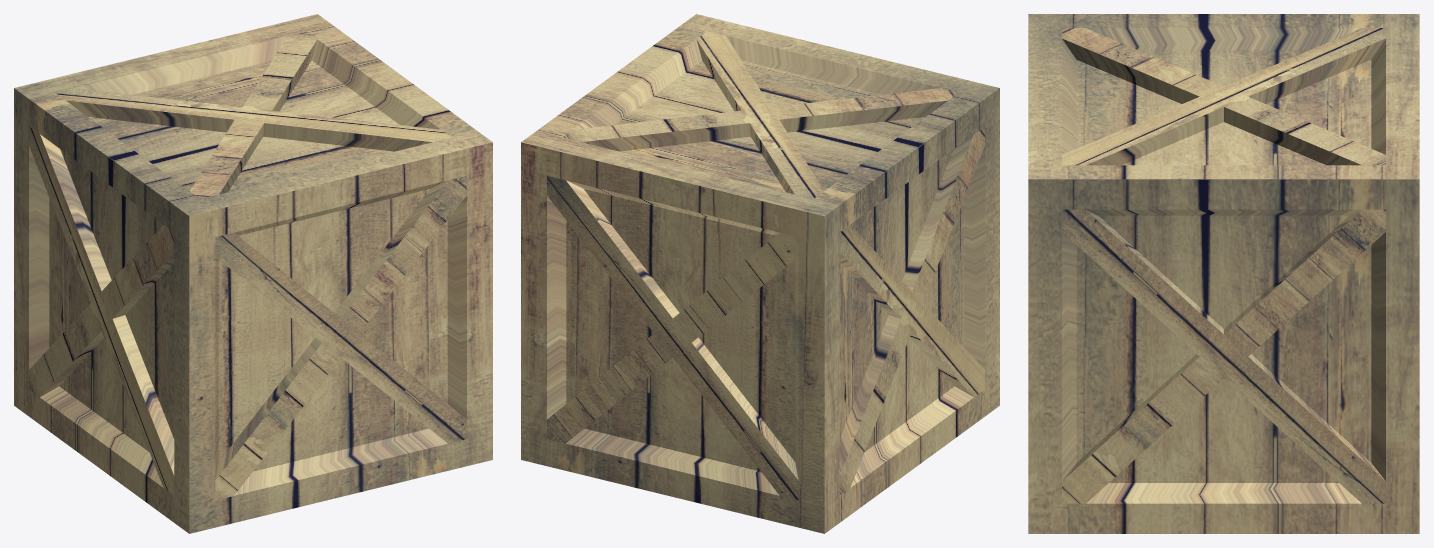
Rendered from crate_01.fbx.
3 views of the same model, side by side, from view 1: azimuth 30°, elevation 25°; view 2: azimuth 150°, elevation 25°; view 3: azimuth 270°, elevation 25° (orthographic). The views are drawn at different scales.
Visible parts, largest first — view 1: Cube; view 2: Cube; view 3: Cube.
Boxes of the visible parts, x1,y1,x2,y2 form: Cube: (14,14,492,533); Cube: (521,14,999,533); Cube: (1028,14,1419,533).
Bounding box in the file's own units: 200 × 200 × 200.
1 material, 1 textured.
